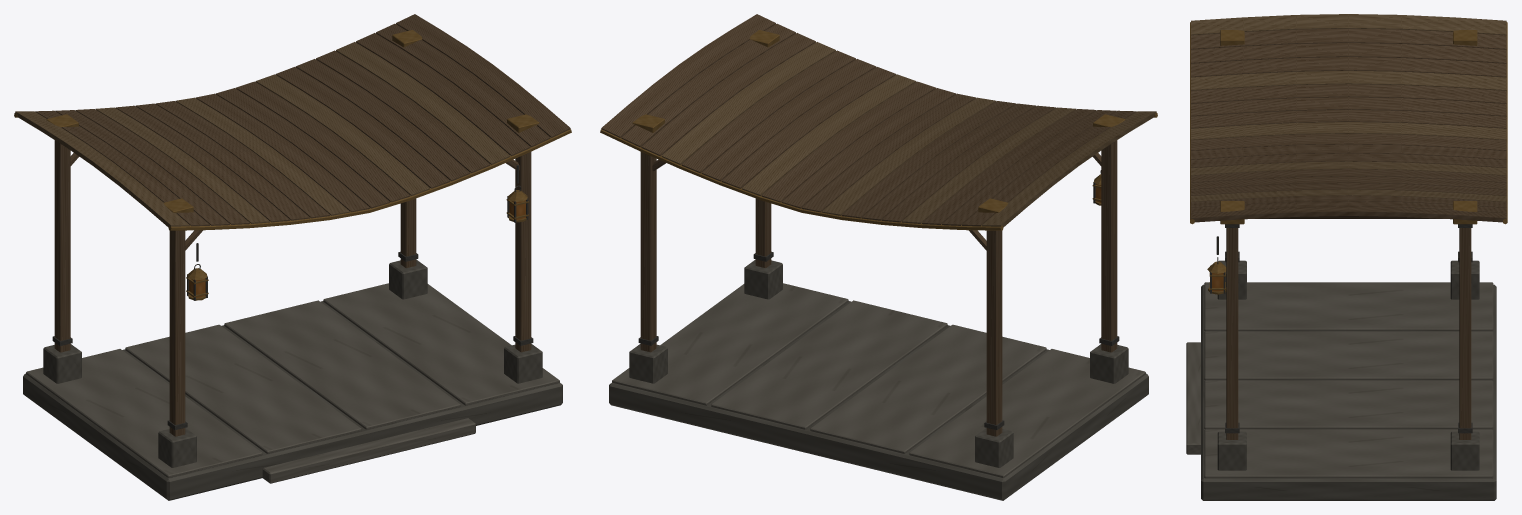
The model's file is env_platform_shelter.fbx.
3 renders of one model, left to right at view 1: azimuth 30°, elevation 25°; view 2: azimuth 150°, elevation 25°; view 3: azimuth 270°, elevation 25°, orthographic.
Visible parts, largest first — view 1: env_platform_shelter; view 2: env_platform_shelter; view 3: env_platform_shelter.
Boxes of the visible parts, box(x1,y1,x2,y2) form: env_platform_shelter: box(14, 14, 571, 500); env_platform_shelter: box(600, 14, 1157, 500); env_platform_shelter: box(1186, 14, 1507, 500).
Bounding box in the file's own units: 380 × 260 × 260.
Materials: 1 (1 with a texture image).
